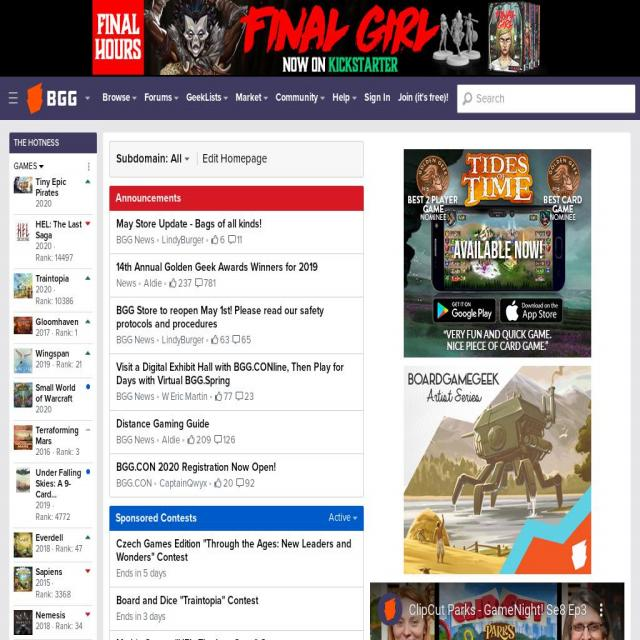login-option: (360, 85, 395, 113)
navigation-links: (108, 180, 368, 640), (10, 130, 101, 640), (41, 85, 445, 113)
options: (0, 85, 25, 112)
search: (455, 84, 640, 118)
